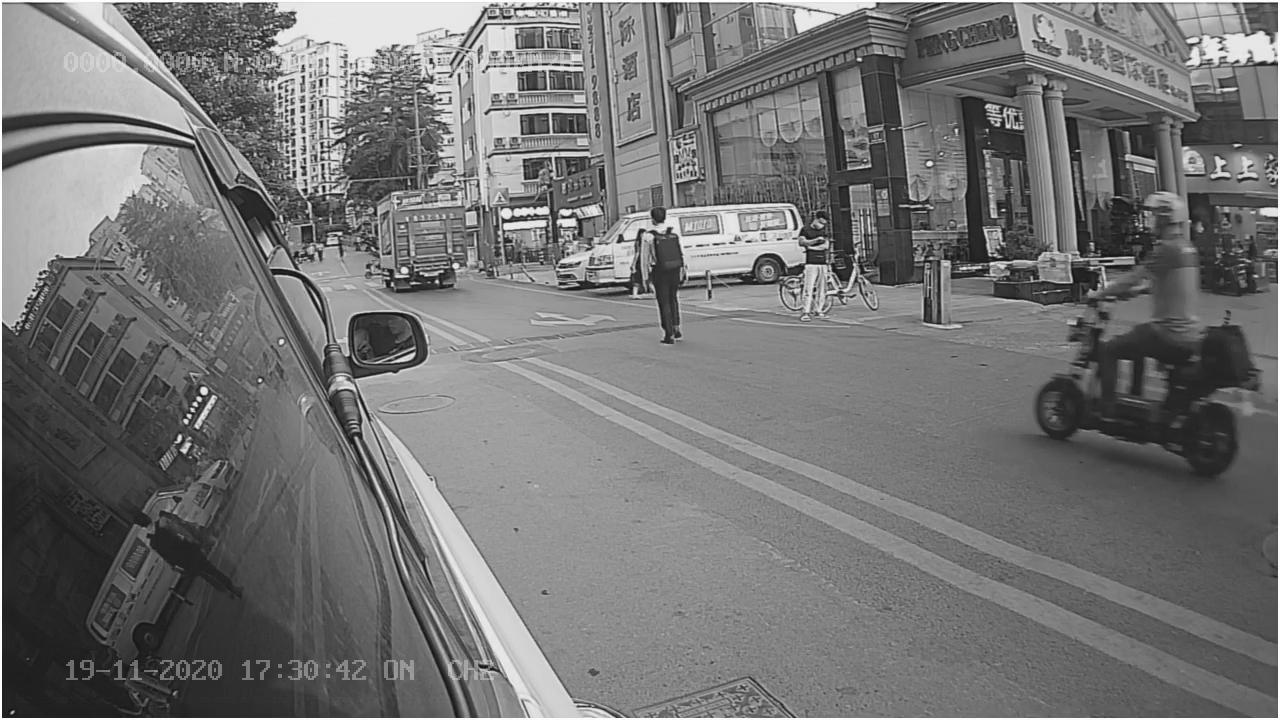person: (634, 205, 690, 339)
